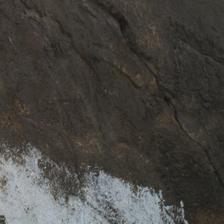Crack: (42, 75, 214, 162), (67, 47, 154, 93)
